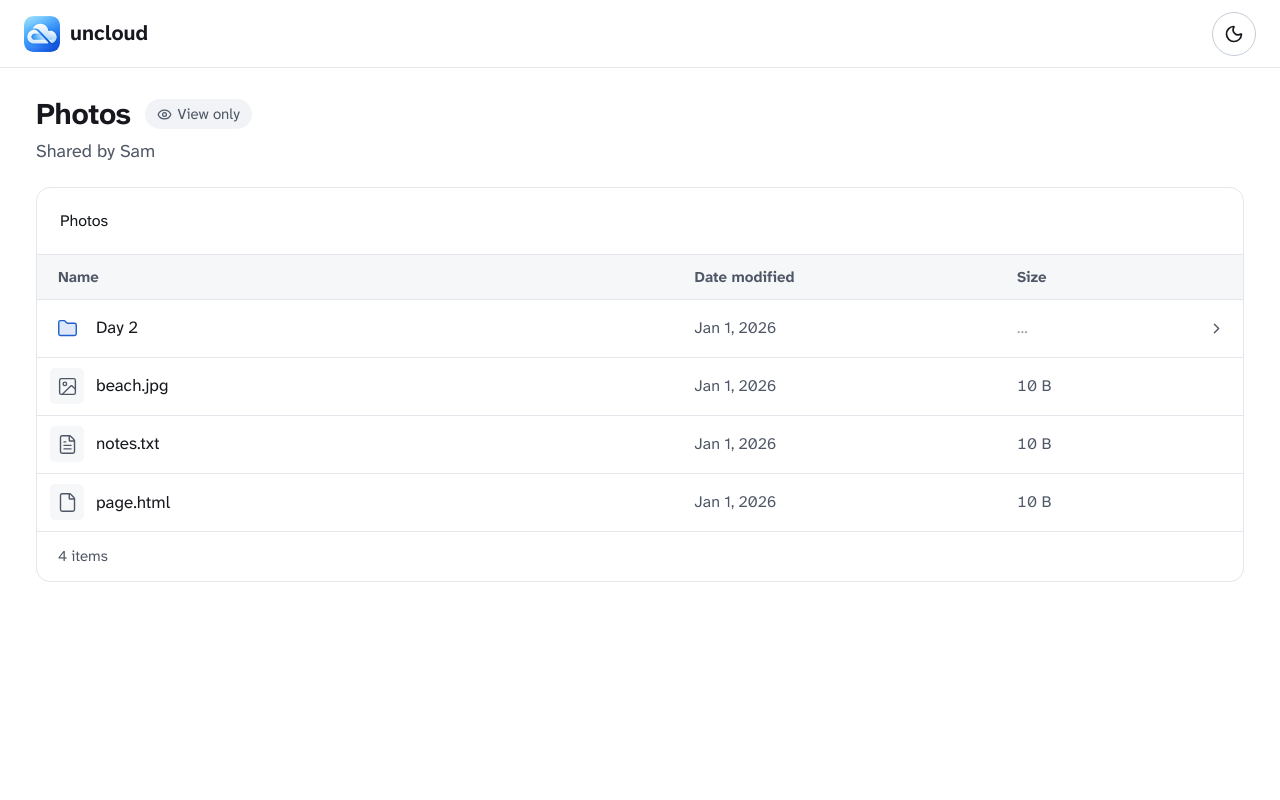
it: opening a shared link › shows a folder that's only to look at, with nothing to download
Expected: the heading reads "Photos", [36, 94, 131, 133]
Expected: the text "Shared by Sam" is shown, [36, 139, 155, 163]
Click the button with aria-label "View beach.jpg" at (67, 386), box [38, 360, 693, 412]
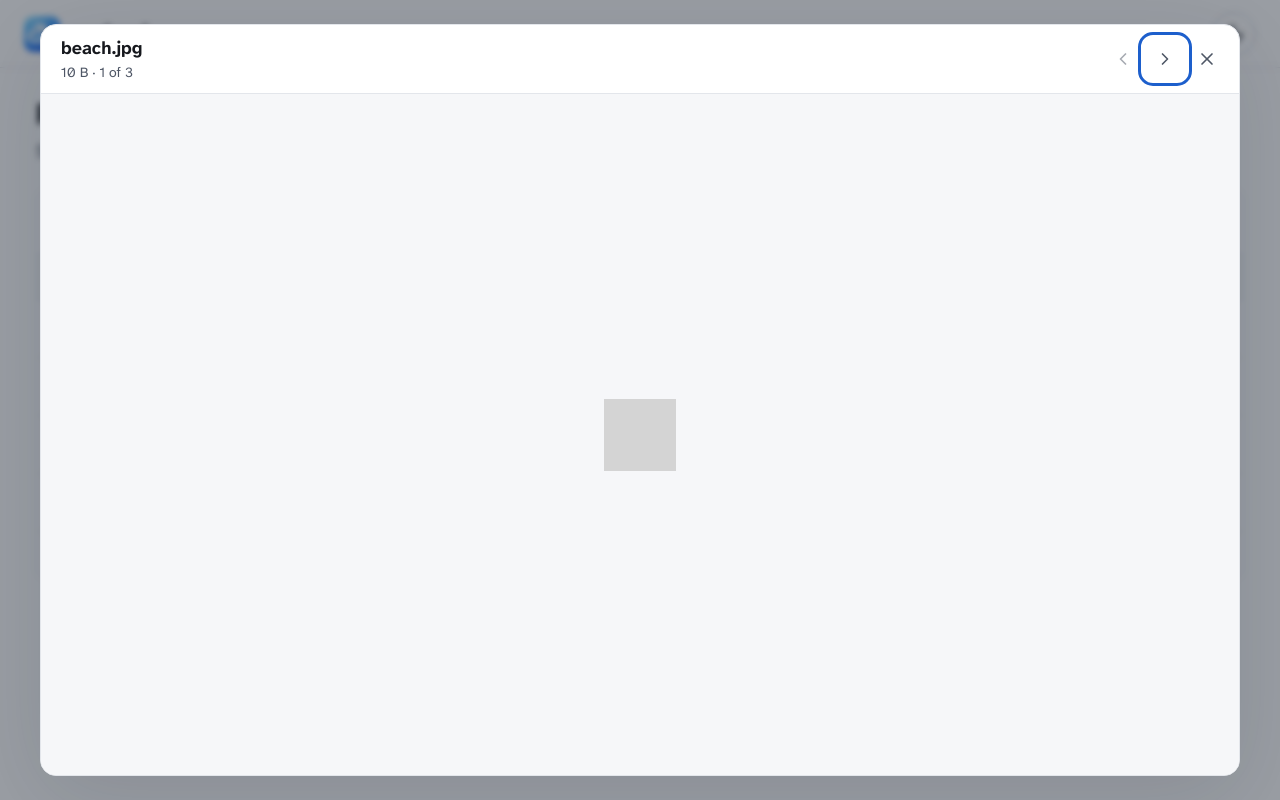
Result: the dialog shows "1 of 3" at [88, 63, 133, 81]
Click the button named "Next" at (1165, 59), box [1145, 39, 1185, 79]
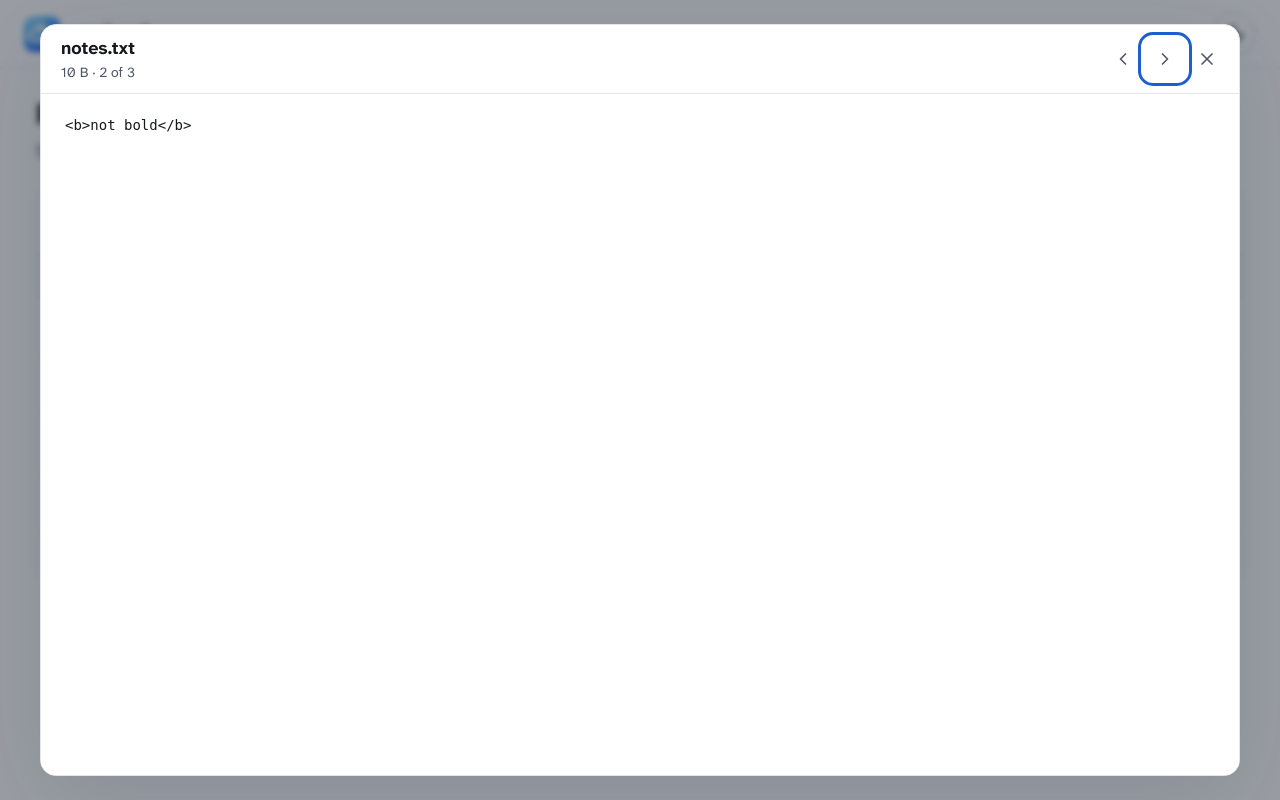
Result: the text "<b>not bold</b>" is shown
Click the button named "Next" at (1165, 59), box [1145, 39, 1185, 79]
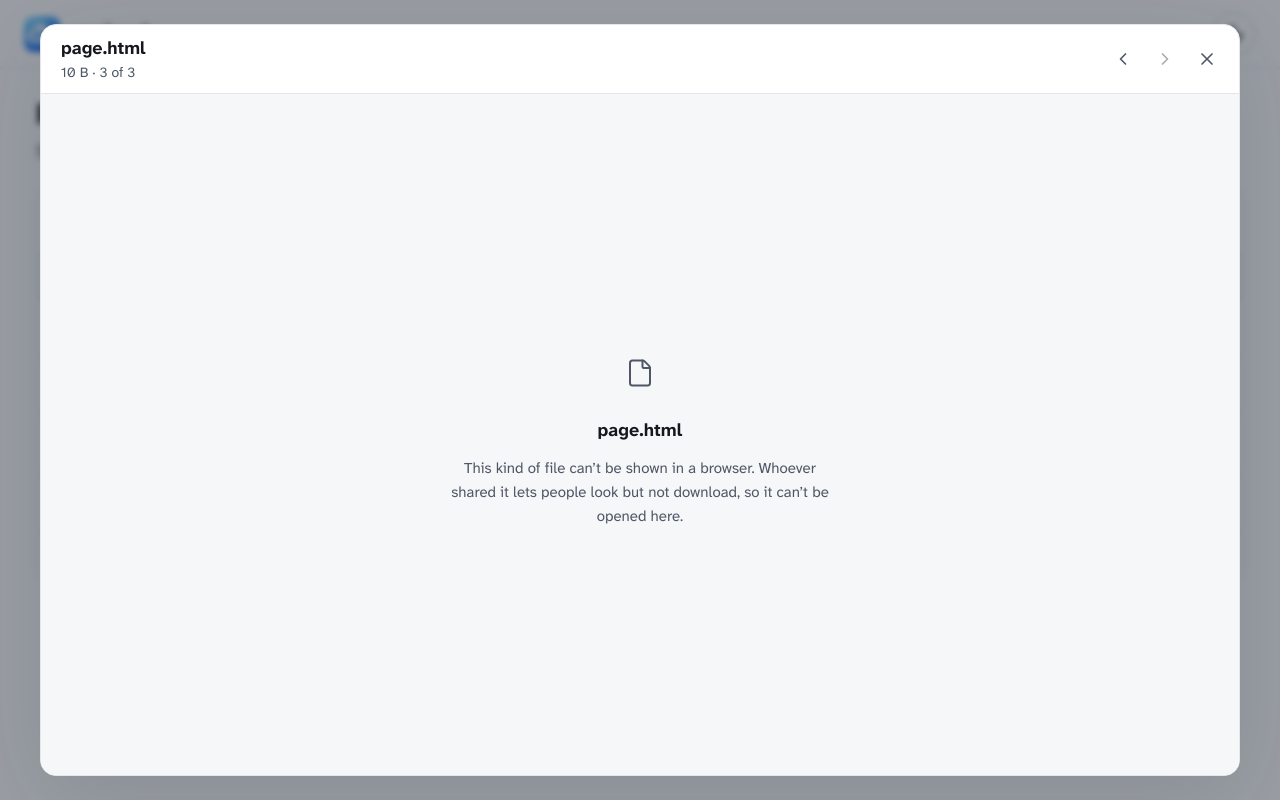
Result: the dialog shows "This kind of file can’t be shown in a browser." at [464, 458, 754, 478]
Result: the dialog shows "lets people look but not download" at [451, 458, 829, 526]
